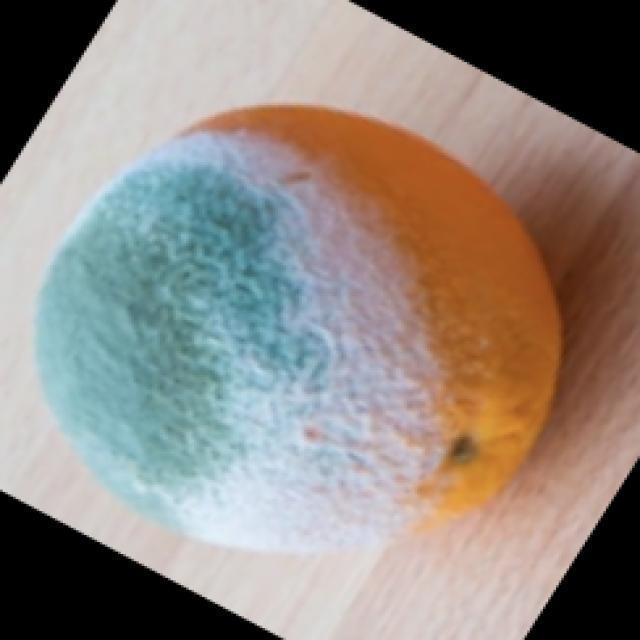Orange: (31, 100, 564, 552)
